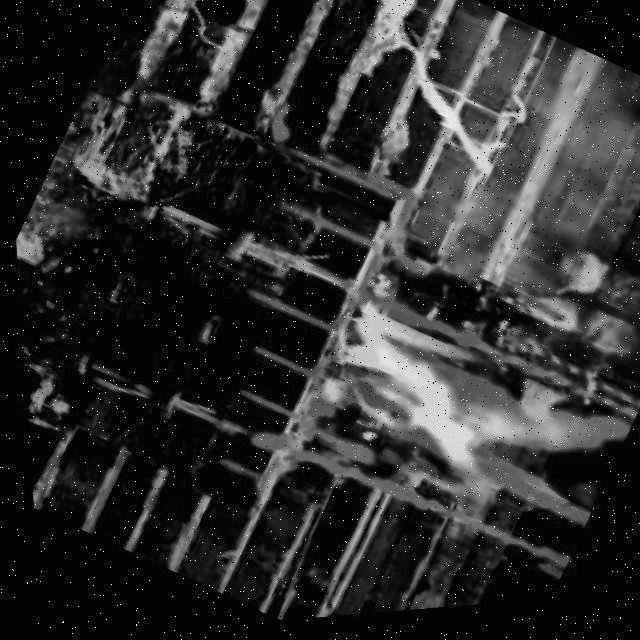Fire: (294, 278, 604, 546)
